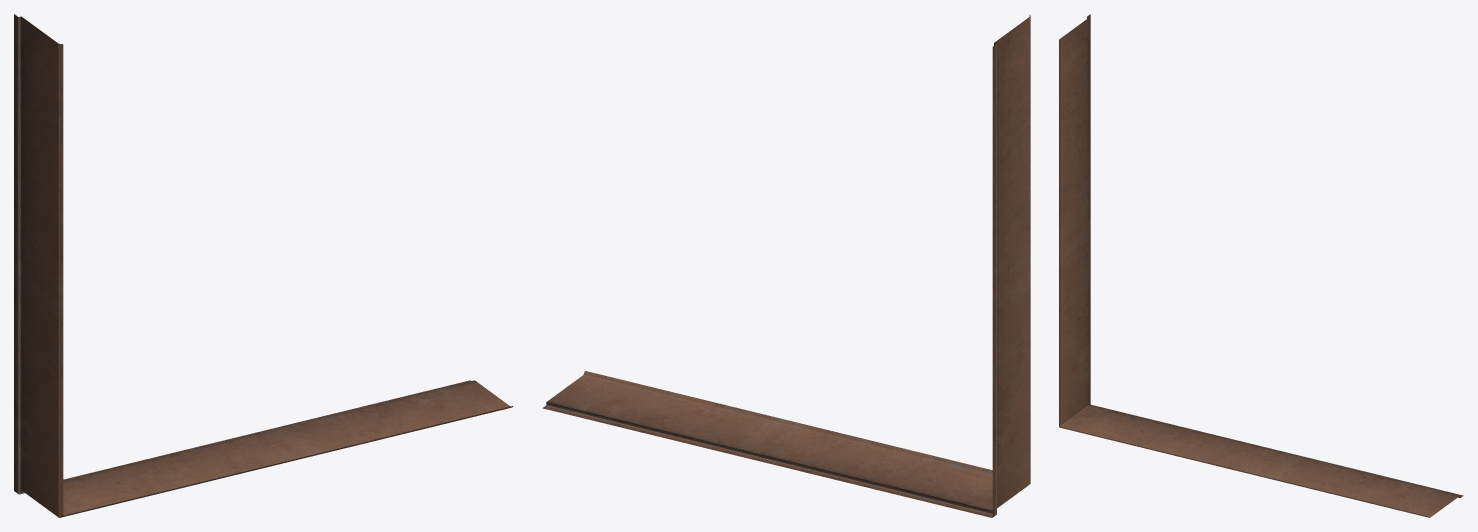
Rendered from dado_standard_corner_large_01.gltf.
3 renders of one model, left to right at view 1: azimuth 30°, elevation 25°; view 2: azimuth 150°, elevation 25°; view 3: azimuth 330°, elevation 25°, orthographic. The views are drawn at different scales.
Parts seen in each view (by area): view 1: dado_standard_corner_large_01; view 2: dado_standard_corner_large_01; view 3: dado_standard_corner_large_01.
Part boxes in pixels (left/top/right/bottom): dado_standard_corner_large_01: left=14, top=14, right=512, bottom=517; dado_standard_corner_large_01: left=542, top=14, right=1030, bottom=517; dado_standard_corner_large_01: left=1059, top=14, right=1463, bottom=517.
Bounding box in the file's own units: 3.04 × 3.04 × 0.5.
1 material, 1 textured.
